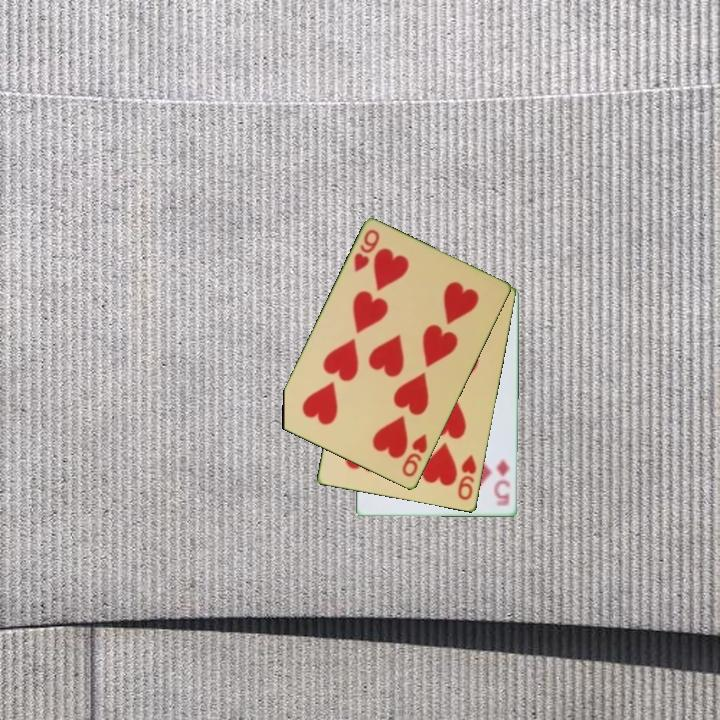5d: (492, 456, 513, 510)
9h: (398, 431, 431, 480), (350, 226, 383, 275), (454, 451, 480, 503)
